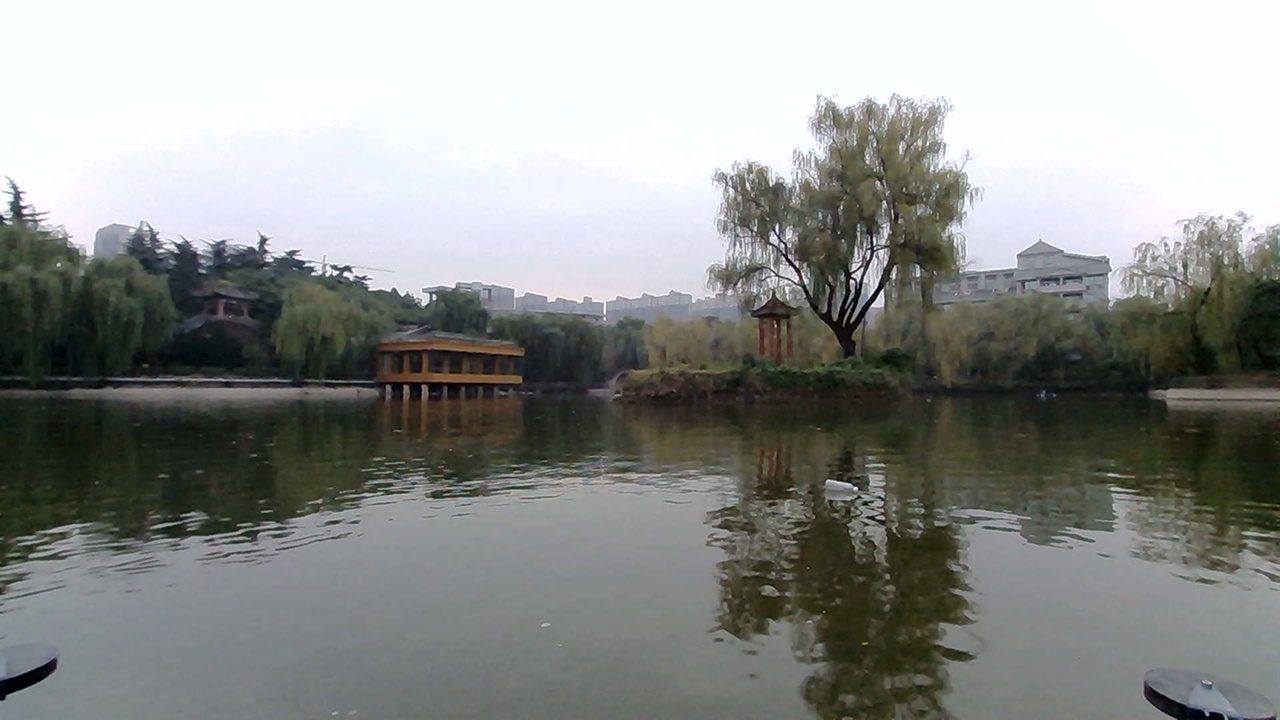bottle: (807, 469, 871, 502)
